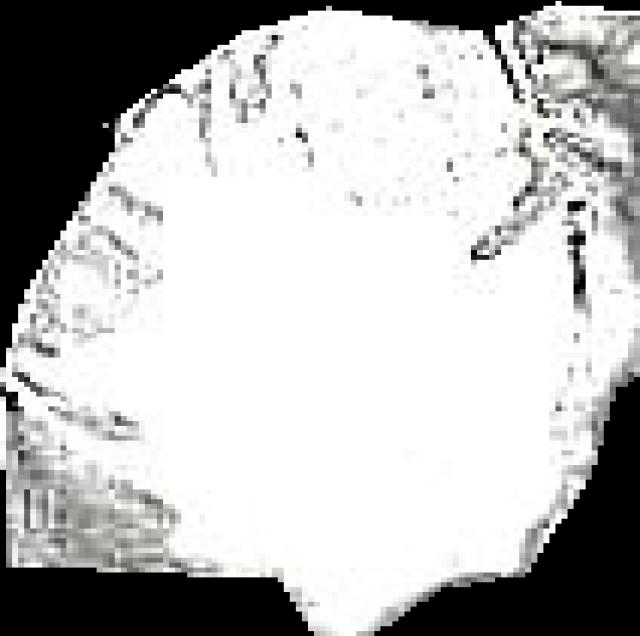tumor_less_chance: (0, 1, 640, 636)
